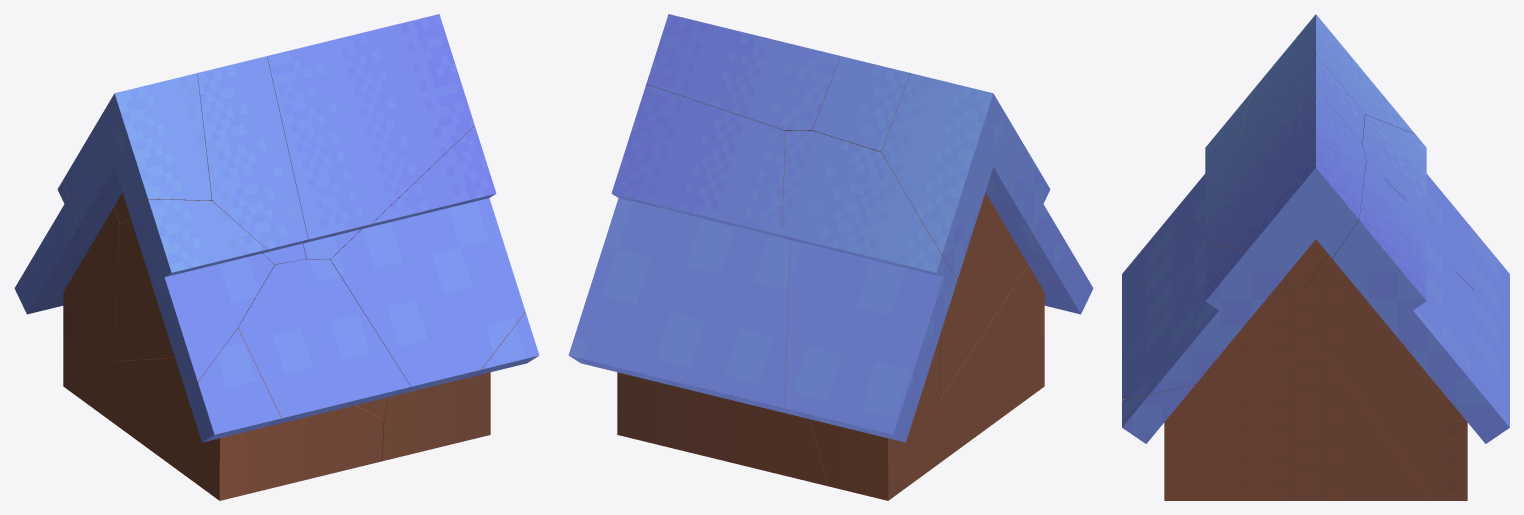
Rendered from unit-house-pieces.glb.
3 views of the same model, side by side, from view 1: azimuth 30°, elevation 25°; view 2: azimuth 150°, elevation 25°; view 3: azimuth 270°, elevation 25° (orthographic). The views are drawn at different scales.
Visible parts, largest first — view 1: unit-house_cell.001, unit-house_cell.006, unit-house_cell.003, unit-house_cell.007, unit-house_cell.005, unit-house_cell.004, unit-house_cell.009, unit-house_cell.002, unit-house_cell.008; view 2: unit-house_cell, unit-house_cell.002, unit-house_cell.004, unit-house_cell.001, unit-house_cell.003, unit-house_cell.007, unit-house_cell.009; view 3: unit-house_cell, unit-house_cell.008, unit-house_cell.006, unit-house_cell.001, unit-house_cell.002, unit-house_cell.004, unit-house_cell.009, unit-house_cell.005, unit-house_cell.007, unit-house_cell.003.
Part boxes in pixels (x1,y1,x2,y2): unit-house_cell.001: (267,14,474,259); unit-house_cell.006: (330,125,525,394); unit-house_cell.003: (92,326,383,500); unit-house_cell.007: (114,199,274,383); unit-house_cell.005: (238,259,410,419); unit-house_cell.004: (63,73,211,226); unit-house_cell.009: (197,56,308,264); unit-house_cell.002: (14,180,120,406); unit-house_cell.008: (382,312,539,461); unit-house_cell: (568,84,827,486); unit-house_cell.002: (782,130,957,500); unit-house_cell.004: (882,73,1026,278); unit-house_cell.001: (646,14,840,130); unit-house_cell.003: (916,260,1093,479); unit-house_cell.007: (938,150,1076,401); unit-house_cell.009: (812,56,910,155); unit-house_cell: (1305,161,1509,500); unit-house_cell.008: (1122,352,1432,500); unit-house_cell.006: (1122,242,1325,399); unit-house_cell.001: (1205,86,1365,287); unit-house_cell.002: (1362,114,1509,325); unit-house_cell.004: (1241,14,1415,134); unit-house_cell.009: (1205,53,1364,211); unit-house_cell.005: (1122,219,1205,366); unit-house_cell.007: (1154,93,1250,234); unit-house_cell.003: (1122,229,1179,305).
Bounding box in the file's own units: 2.16 × 2.27 × 2.3.
1 material, 1 textured.
